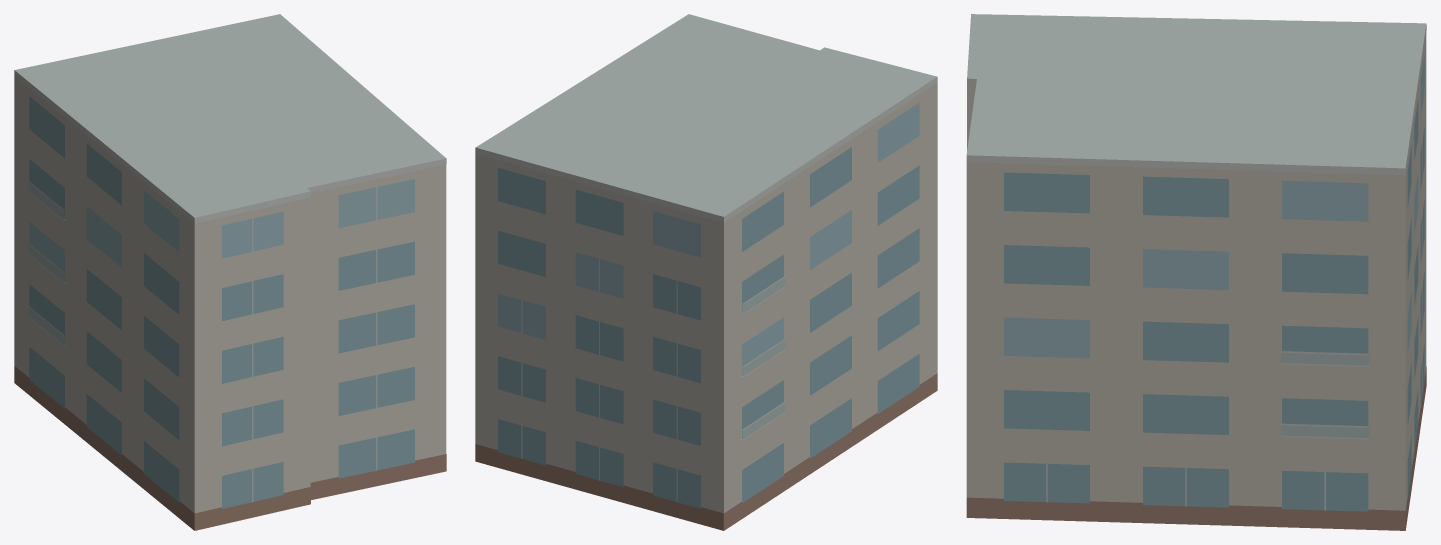
Rendered from survey-upis-32654374.glb.
3 views of the same model, side by side, from view 1: azimuth 30°, elevation 25°; view 2: azimuth 150°, elevation 25°; view 3: azimuth 270°, elevation 25° (orthographic). The views are drawn at different scales.
Parts seen in each view (by area): view 1: survey-upis-32654374.tmp; view 2: survey-upis-32654374.tmp; view 3: survey-upis-32654374.tmp.
Part boxes in pixels (x1,y1,x2,y2): survey-upis-32654374.tmp: (14,14,446,530); survey-upis-32654374.tmp: (475,14,937,530); survey-upis-32654374.tmp: (966,14,1426,530).
Size of the model in its own units: 11.74 by 12.85 by 14.79.
